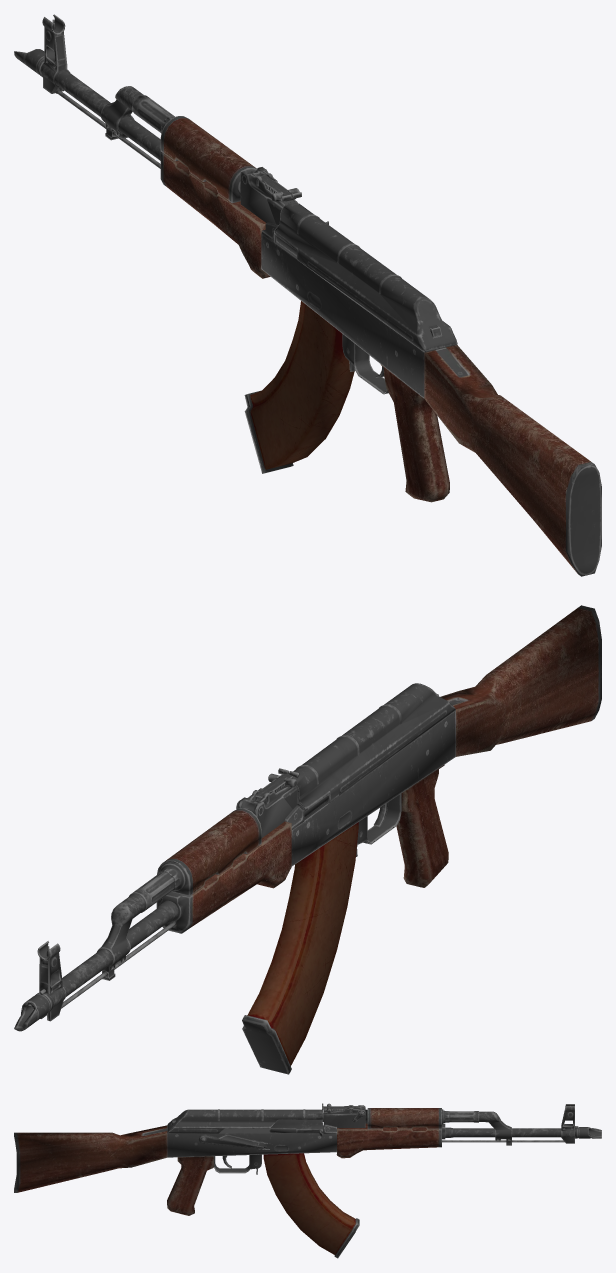
The model's file is akm-parts-candidate.glb.
3 views of the same model, one above another, from view 1: azimuth 30°, elevation 25°; view 2: azimuth 150°, elevation 25°; view 3: azimuth 270°, elevation 25° (orthographic). The views are drawn at different scales.
Parts seen in each view (by area): view 1: AKM_Body, AKM_Magazine; view 2: AKM_Body, AKM_Magazine; view 3: AKM_Body, AKM_Magazine.
Part boxes in pixels (left/top/right/bottom): AKM_Body: left=14, top=14, right=601, bottom=576; AKM_Magazine: left=244, top=301, right=354, bottom=473; AKM_Body: left=14, top=605, right=601, bottom=1031; AKM_Magazine: left=242, top=822, right=358, bottom=1074; AKM_Body: left=14, top=1103, right=601, bottom=1215; AKM_Magazine: left=263, top=1153, right=359, bottom=1258.
Bounding box in the file's own units: 0.0541 × 0.2738 × 0.9723.
1 material, 1 textured.
